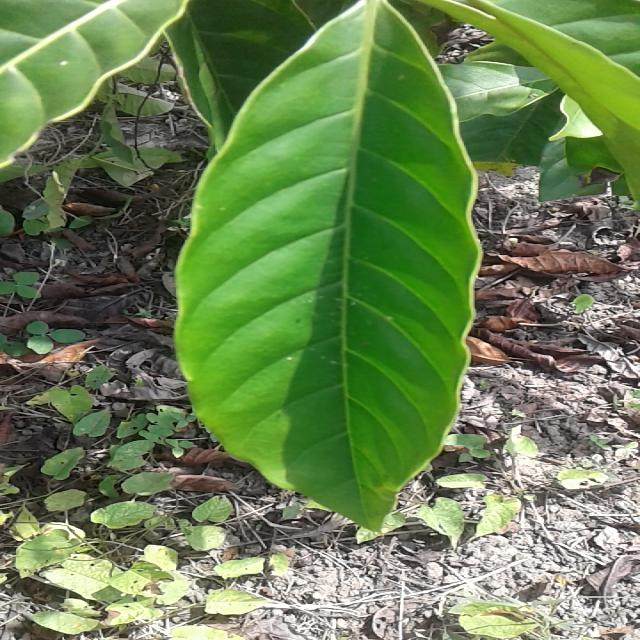Sanas: (173, 0, 484, 536)
